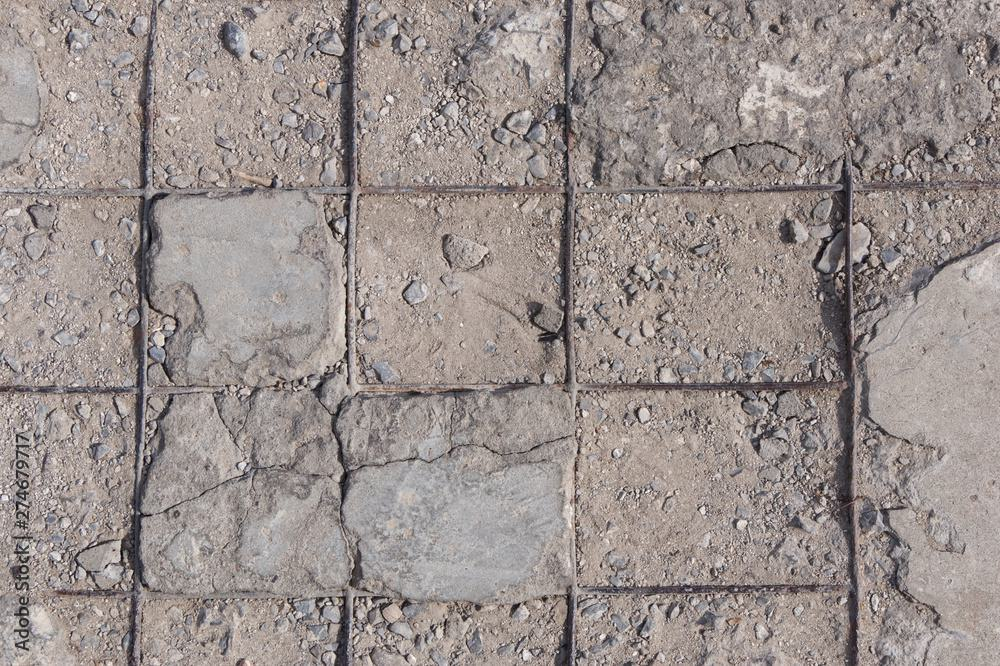Crack: (140, 433, 572, 520)
Exposed reinforcement: (1, 179, 1000, 199), (127, 1, 155, 666), (52, 581, 855, 601), (339, 1, 361, 666), (1, 379, 850, 395), (560, 1, 577, 666), (841, 146, 861, 666)
Spalling: (1, 1, 1000, 666)
